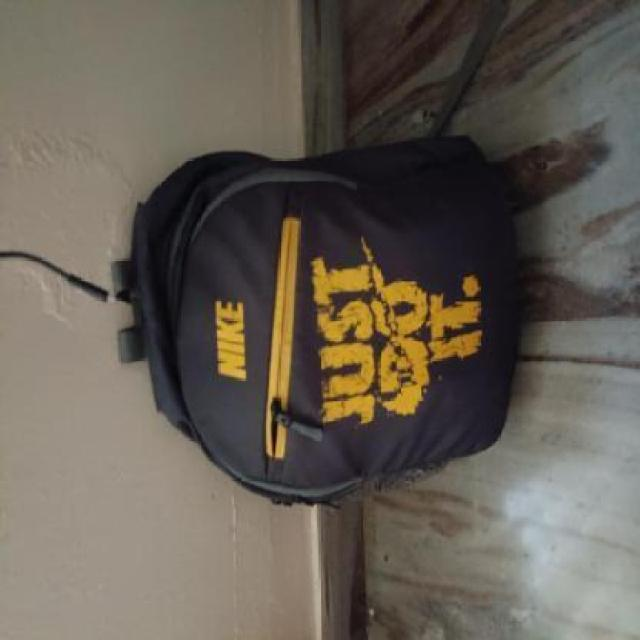backpack: (108, 134, 522, 511)
